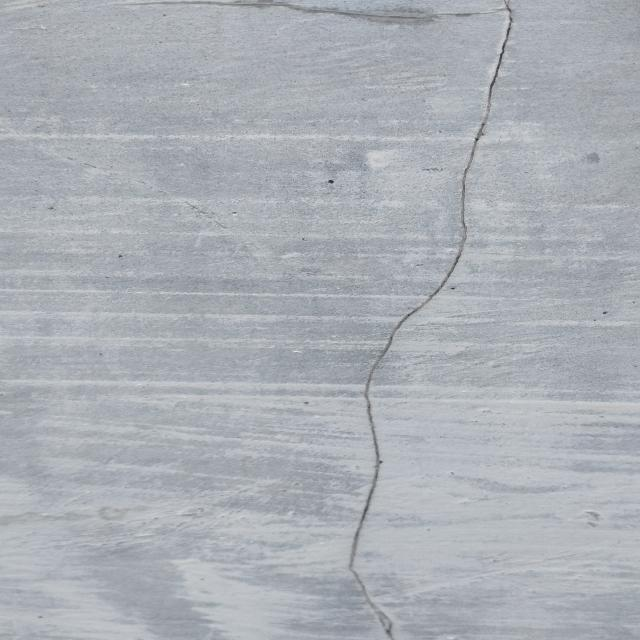Crack: (342, 3, 522, 636)
